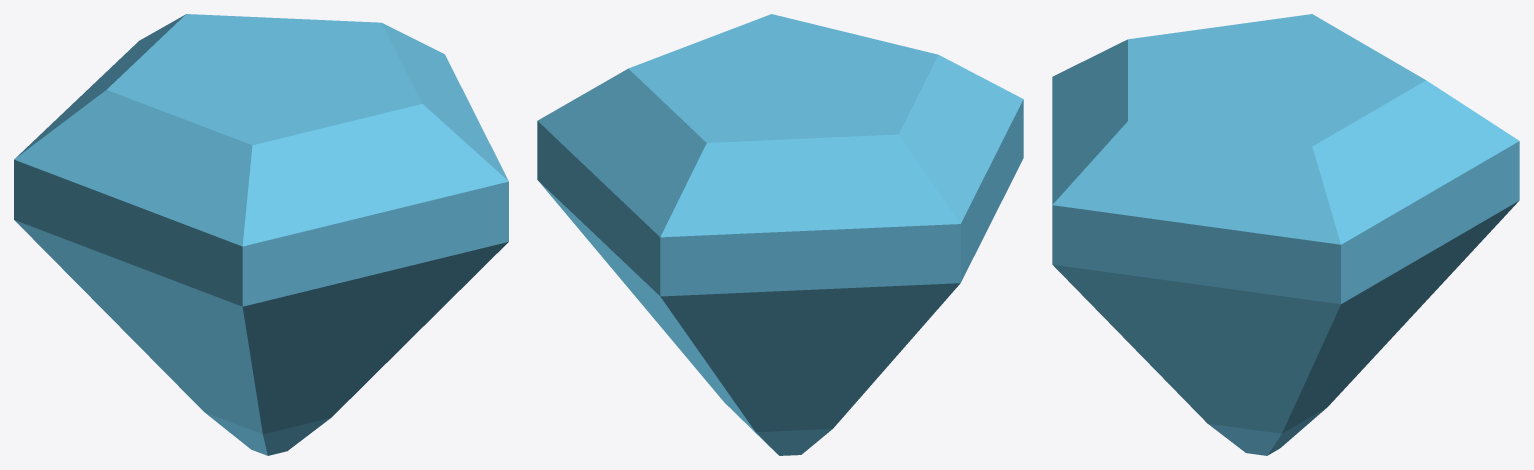
Rendered from timantti 1.fbx.
The picture shows the model from 3 angles, left to right: view 1: azimuth 30°, elevation 25°; view 2: azimuth 150°, elevation 25°; view 3: azimuth 270°, elevation 25°; orthographic projection.
Visible parts, largest first — view 1: Cylinder; view 2: Cylinder; view 3: Cylinder.
Boxes of the visible parts, left/top/right/bottom form: Cylinder: left=14, top=14, right=508, bottom=455; Cylinder: left=537, top=14, right=1023, bottom=455; Cylinder: left=1052, top=14, right=1519, bottom=455.
Size of the model in its own units: 295 by 244 by 280.
